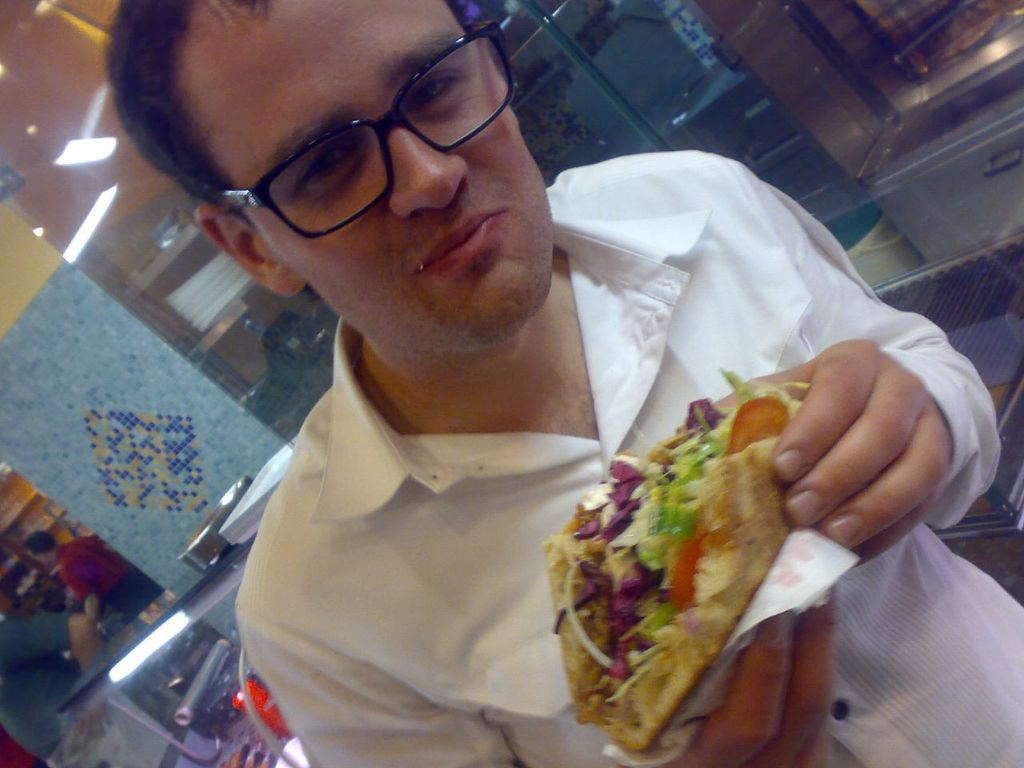sandwich: (554, 381, 865, 741)
